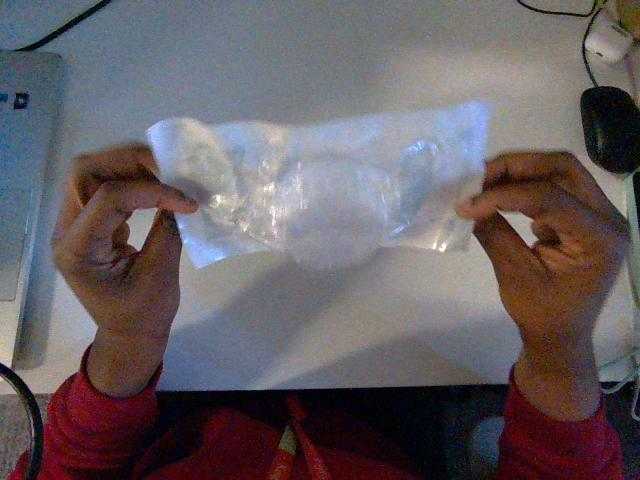gallipot: (147, 102, 488, 269)
